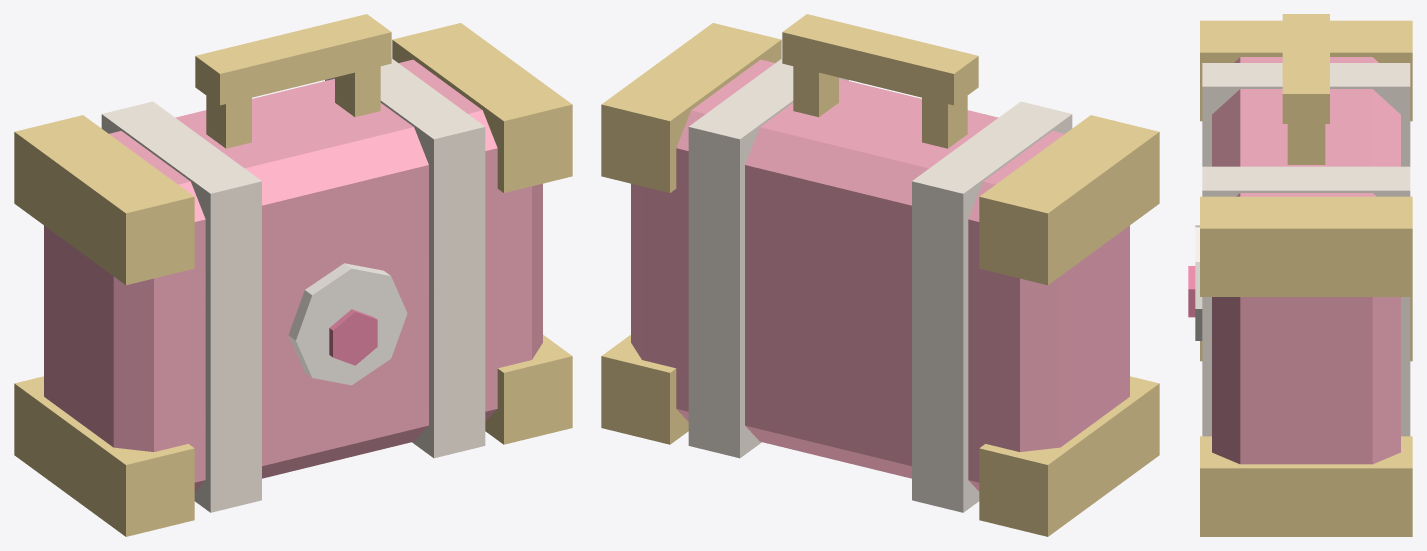
Rendered from CleanACat_Prop_Suitcase.fbx.
3 renders of one model, left to right at view 1: azimuth 30°, elevation 25°; view 2: azimuth 150°, elevation 25°; view 3: azimuth 270°, elevation 25°, orthographic. The views are drawn at different scales.
Parts seen in each view (by area): view 1: CleanACat_Prop_Suitcase; view 2: CleanACat_Prop_Suitcase; view 3: CleanACat_Prop_Suitcase.
Boxes of the visible parts, x1,y1,x2,y2 form: CleanACat_Prop_Suitcase: [14, 14, 572, 536]; CleanACat_Prop_Suitcase: [601, 14, 1159, 536]; CleanACat_Prop_Suitcase: [1188, 14, 1412, 536].
Bounding box in the file's own units: 1.04 × 0.935 × 0.475.
Materials: 1 (1 with a texture image).
